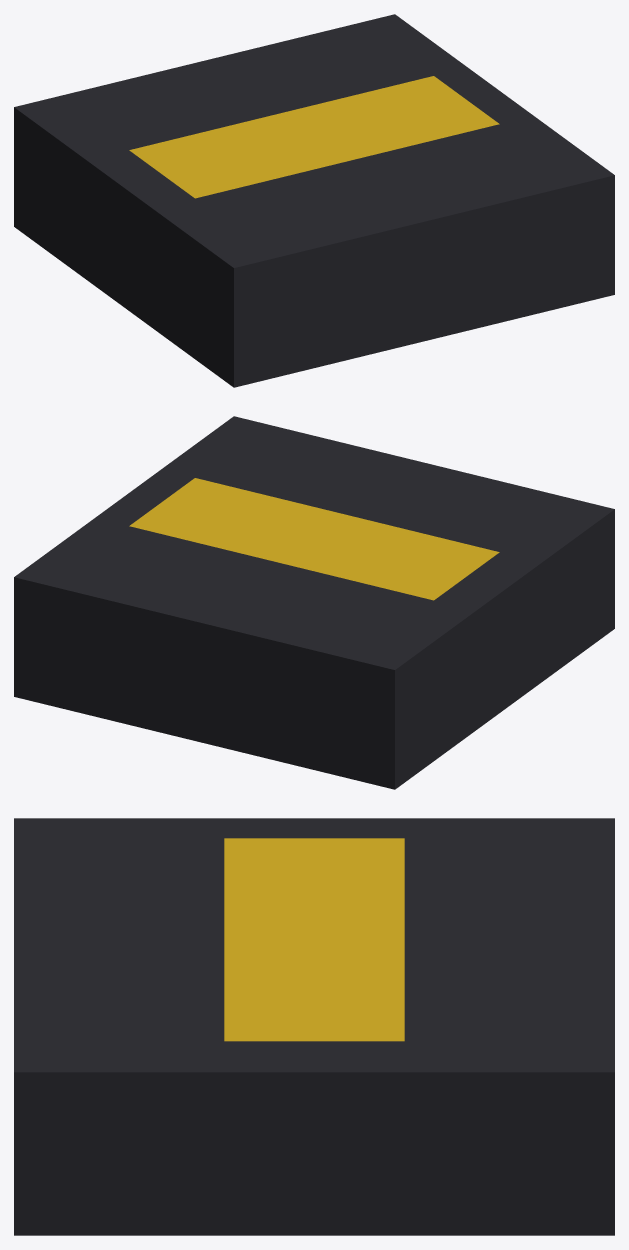
File: Detail_-20_10.glb
The picture shows the model from 3 angles, top to bottom: view 1: azimuth 30°, elevation 25°; view 2: azimuth 150°, elevation 25°; view 3: azimuth 270°, elevation 25°; orthographic projection. The views are drawn at different scales.
Parts seen in each view (by area): view 1: Detail_-20_10; view 2: Detail_-20_10; view 3: Detail_-20_10.
Part boxes in pixels (x1,y1,x2,y2): Detail_-20_10: (14, 14, 614, 387); Detail_-20_10: (14, 416, 614, 789); Detail_-20_10: (14, 818, 614, 1235).
Size of the model in its own units: 1 by 0.31 by 1.
